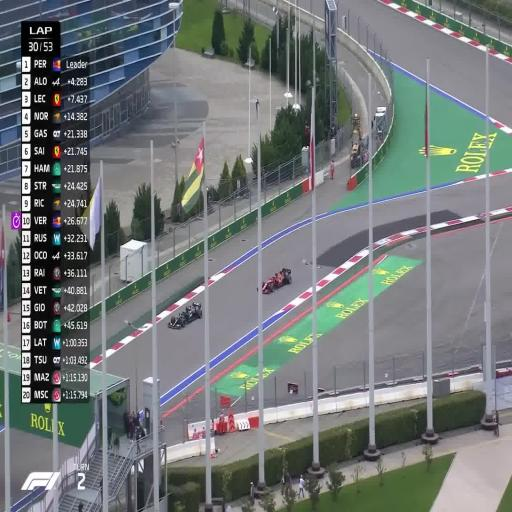f1_car: (167, 302, 202, 329), (262, 268, 291, 293)
